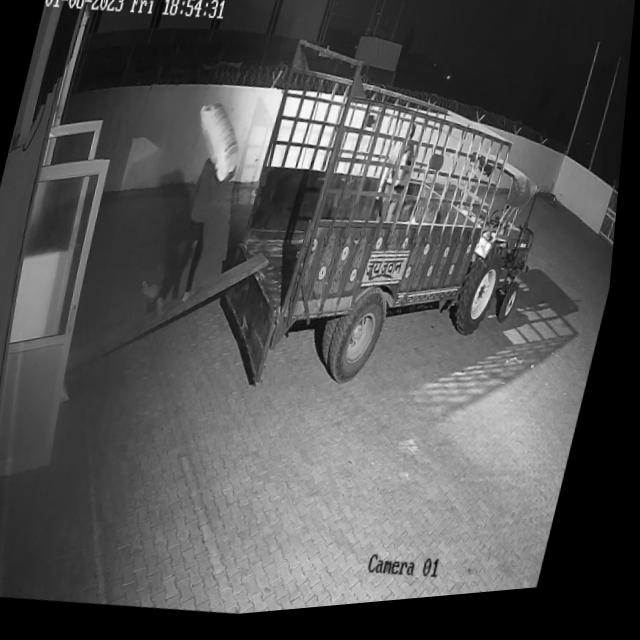sack: (187, 102, 254, 192)
